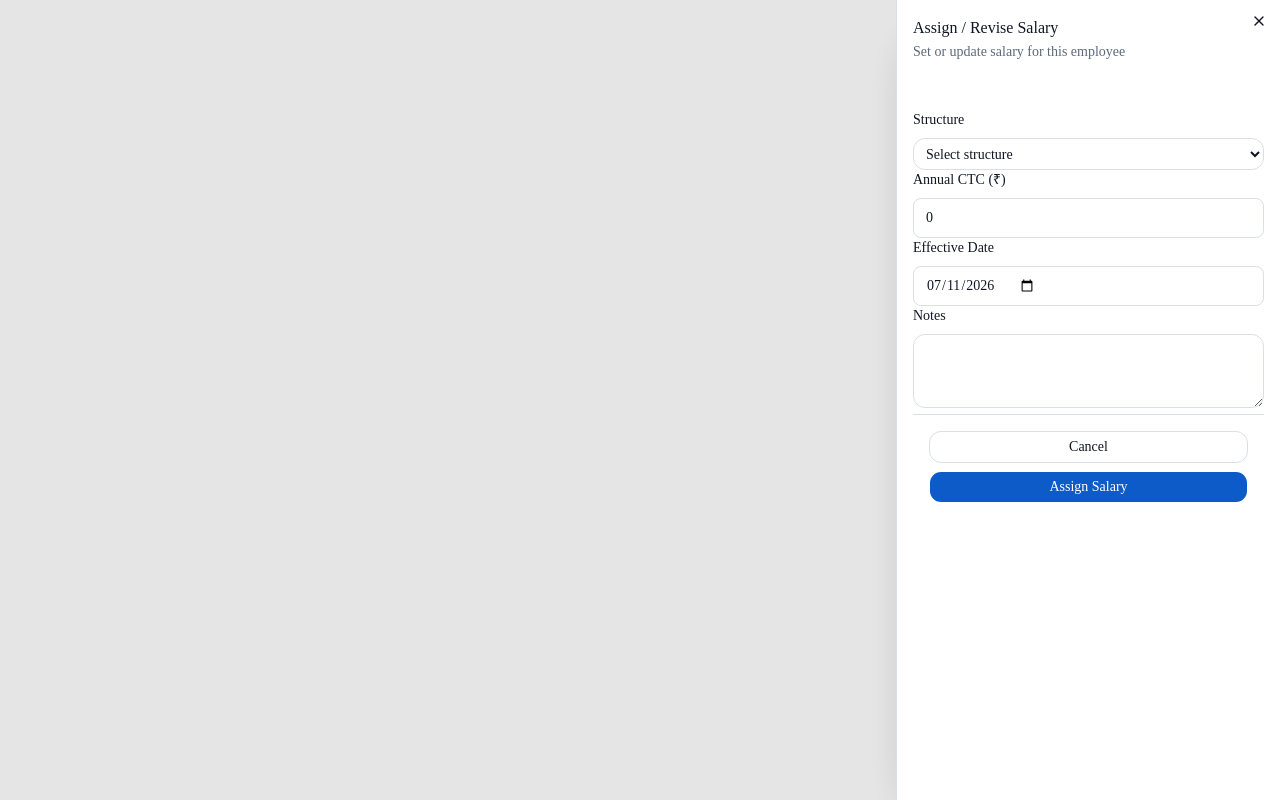
it: SalaryRevisionDrawer — CTC input validation › shows error when structure not selected and submit clicked
Replace the text in the number field showing "0" with "600000" at (1088, 218), box [913, 198, 1264, 238]
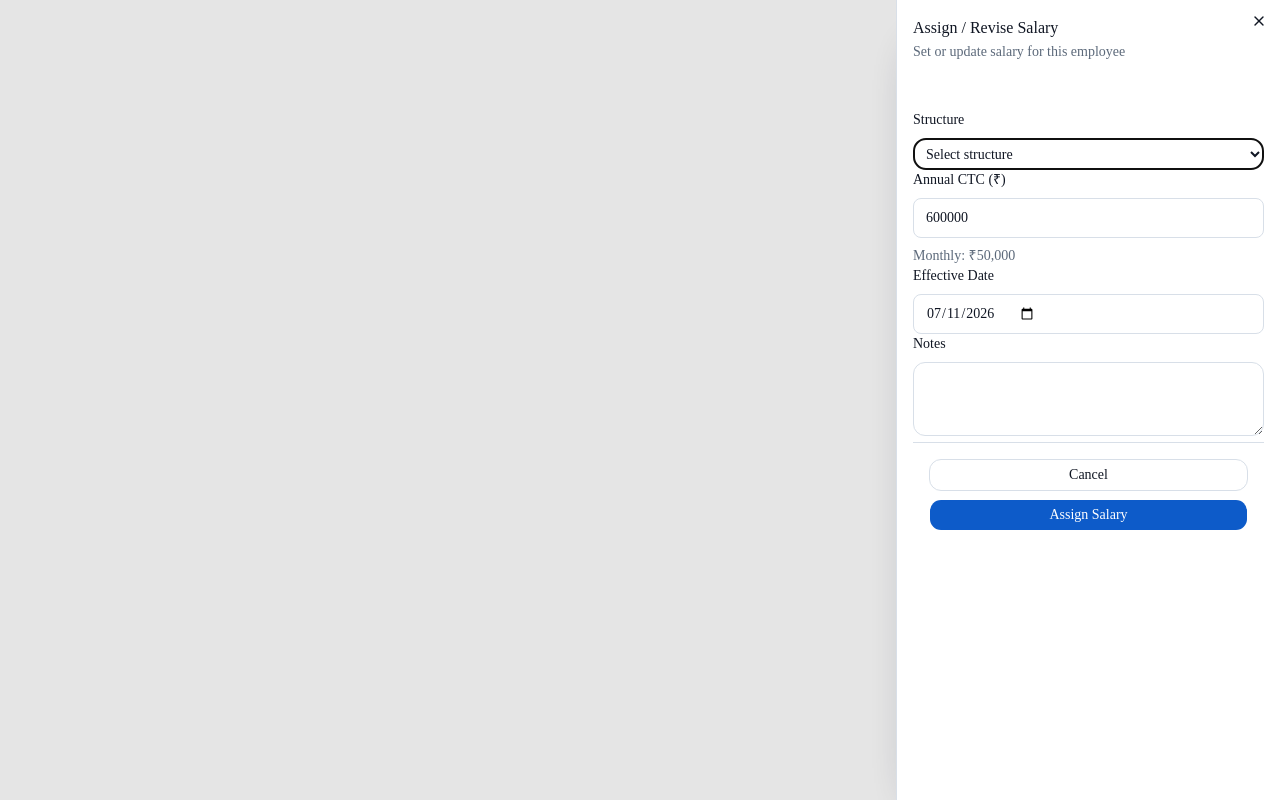
Type "2024-07-01" into the date field labelled "Effective Date" at (1088, 314), box [913, 294, 1264, 334]
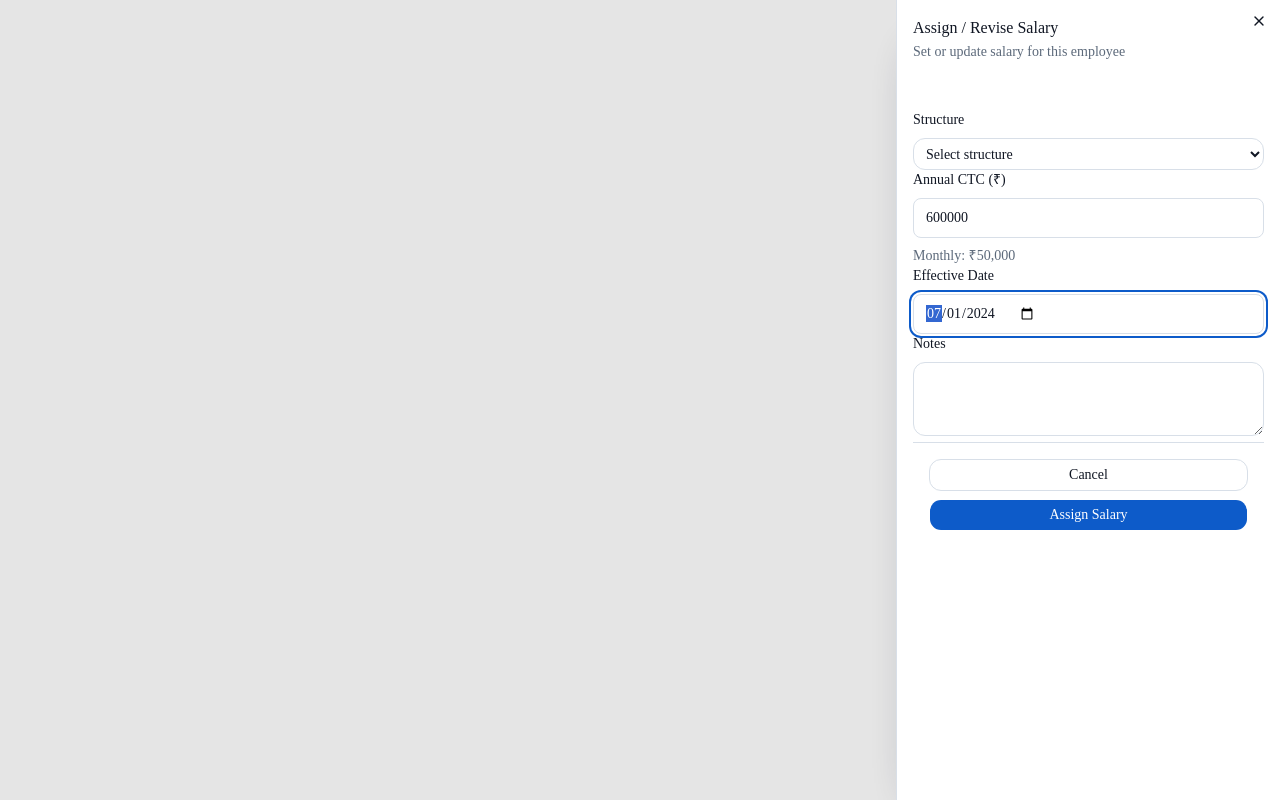
Click the button "Assign Salary" at (1088, 515), box [929, 499, 1248, 531]
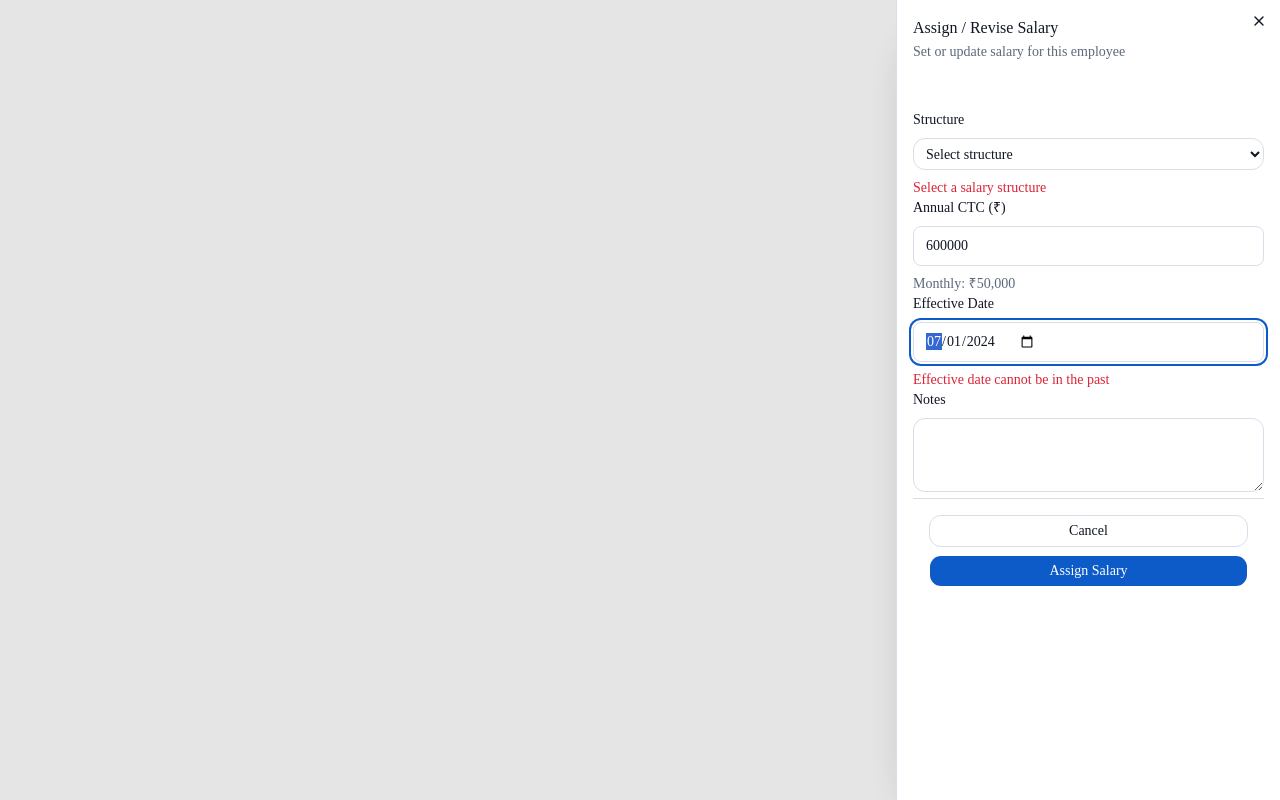
Expected: the text "Select a salary structure" is shown, [913, 180, 1046, 195]
